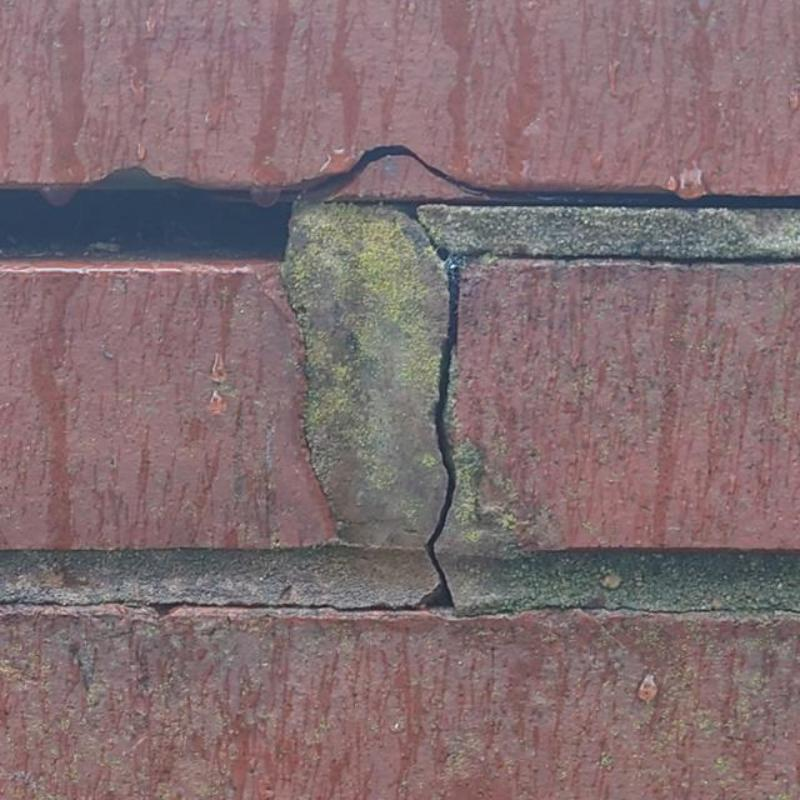pothole: (300, 145, 799, 207), (325, 199, 799, 264), (0, 188, 290, 259), (419, 258, 461, 609), (0, 599, 418, 612), (459, 604, 799, 618)
